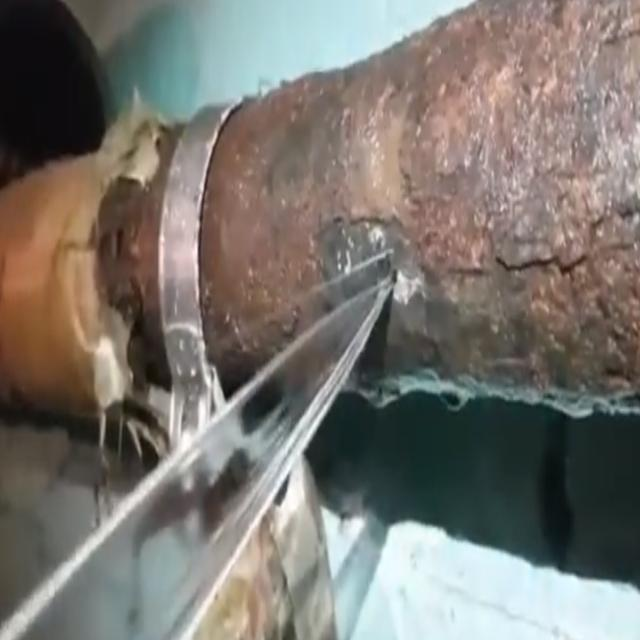leak: (0, 274, 392, 638)
